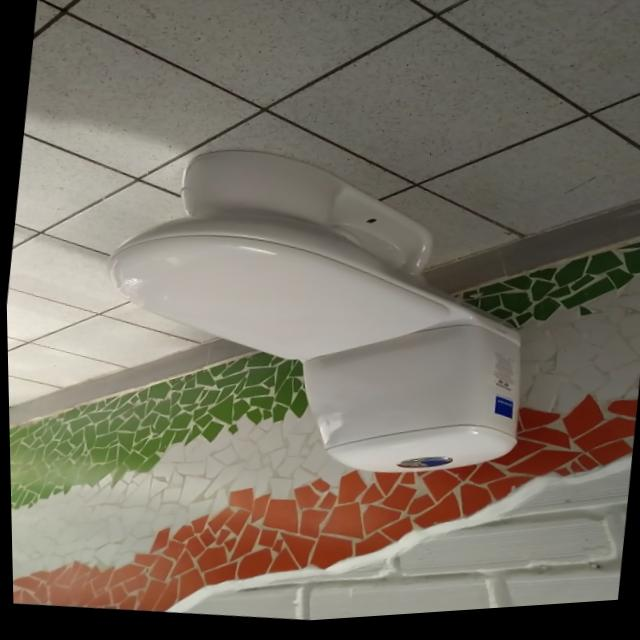toilet: (80, 122, 549, 509)
